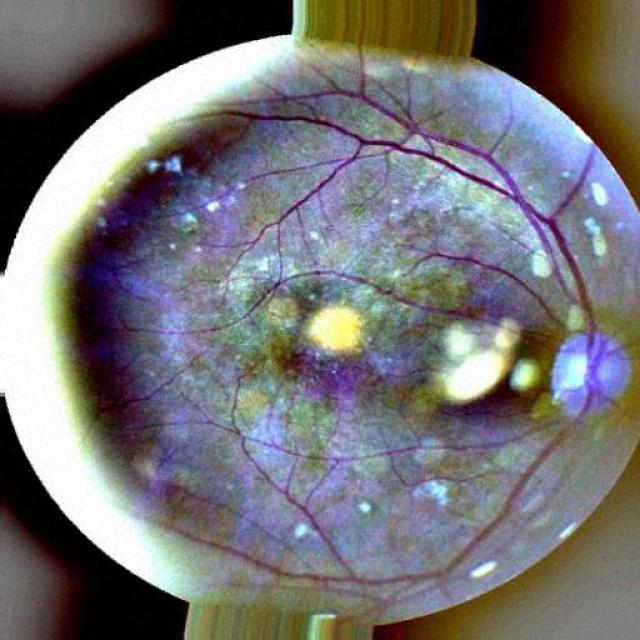Macula: (307, 304, 364, 353)
Nerves: (223, 82, 621, 576), (411, 251, 559, 324), (290, 270, 472, 318), (430, 428, 539, 451)
Optic Disk: (550, 332, 629, 411)
